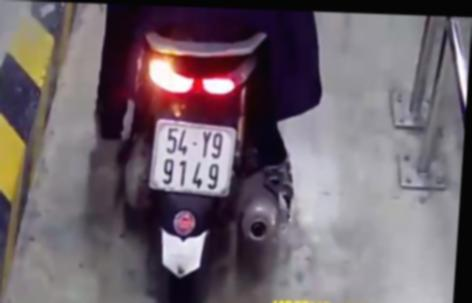License_Plate: (140, 117, 246, 203)
